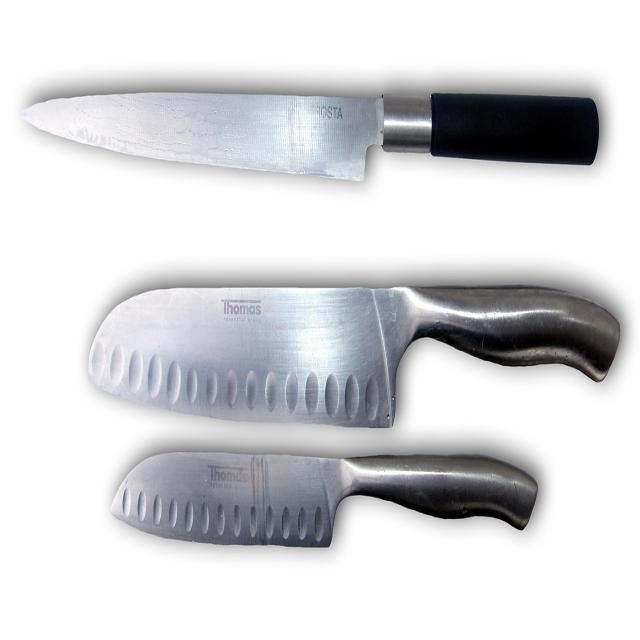Knife: (91, 288, 619, 427), (24, 92, 598, 179), (111, 452, 538, 547)
